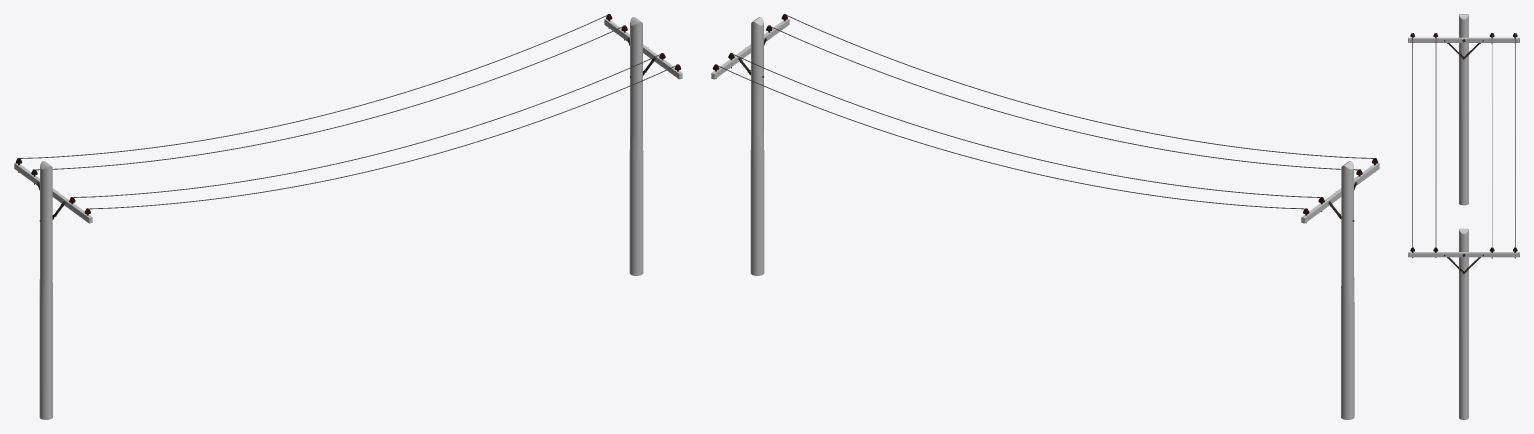
The picture shows the model from 3 angles, left to right: view 1: azimuth 30°, elevation 25°; view 2: azimuth 150°, elevation 25°; view 3: azimuth 270°, elevation 25°; orthographic projection. The views are drawn at different scales.
Parts seen in each view (by area): view 1: Cylinder, Catenary.003, Cylinder.001; view 2: Cylinder, Catenary.003, Cylinder.001; view 3: Cylinder, Cylinder.001, Catenary.003, Cube, Cube.003.
Part boxes in pixels (x1,y1,x2,y2): Cylinder: (629,17,643,275); Catenary.003: (19,14,677,209); Cylinder.001: (39,161,52,419); Cylinder: (750,17,764,275); Catenary.003: (716,14,1375,209); Cylinder.001: (1341,161,1354,419); Cylinder: (1459,228,1468,419); Cylinder.001: (1459,14,1468,205); Catenary.003: (1412,33,1515,248); Cube: (1408,252,1519,257); Cube.003: (1408,37,1519,42).
Bounding box in the file's own units: 10.31 × 4.11 × 2.2.
